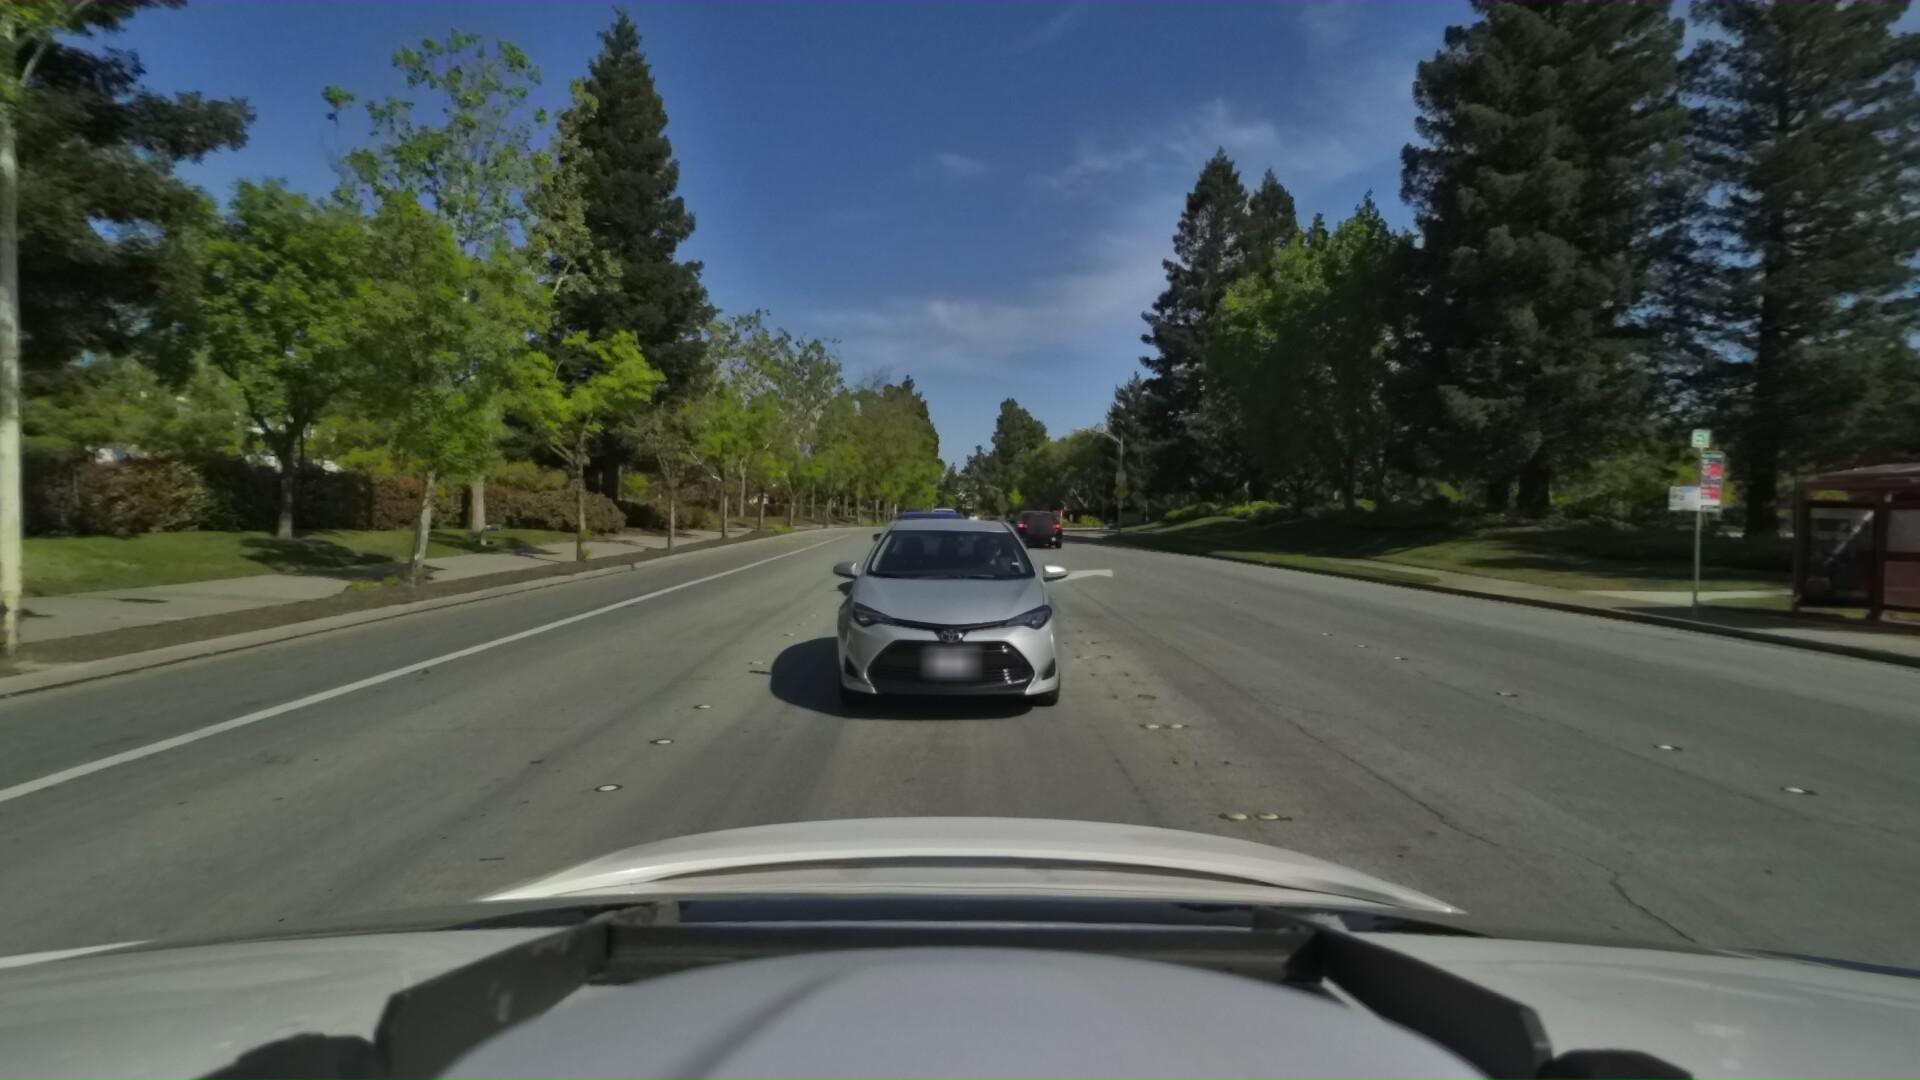car: (814, 502, 1091, 748), (860, 502, 977, 600), (1797, 481, 1920, 556), (1007, 506, 1065, 547), (930, 504, 960, 531), (893, 502, 920, 525)
